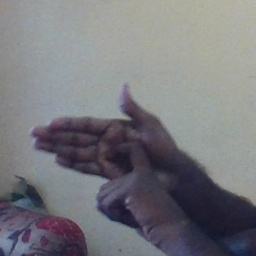R: (29, 80, 184, 229)
